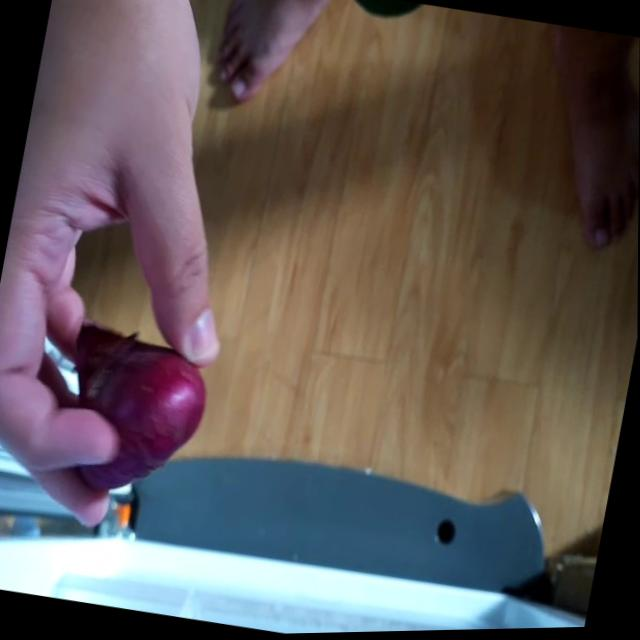onion: (34, 313, 218, 509)
